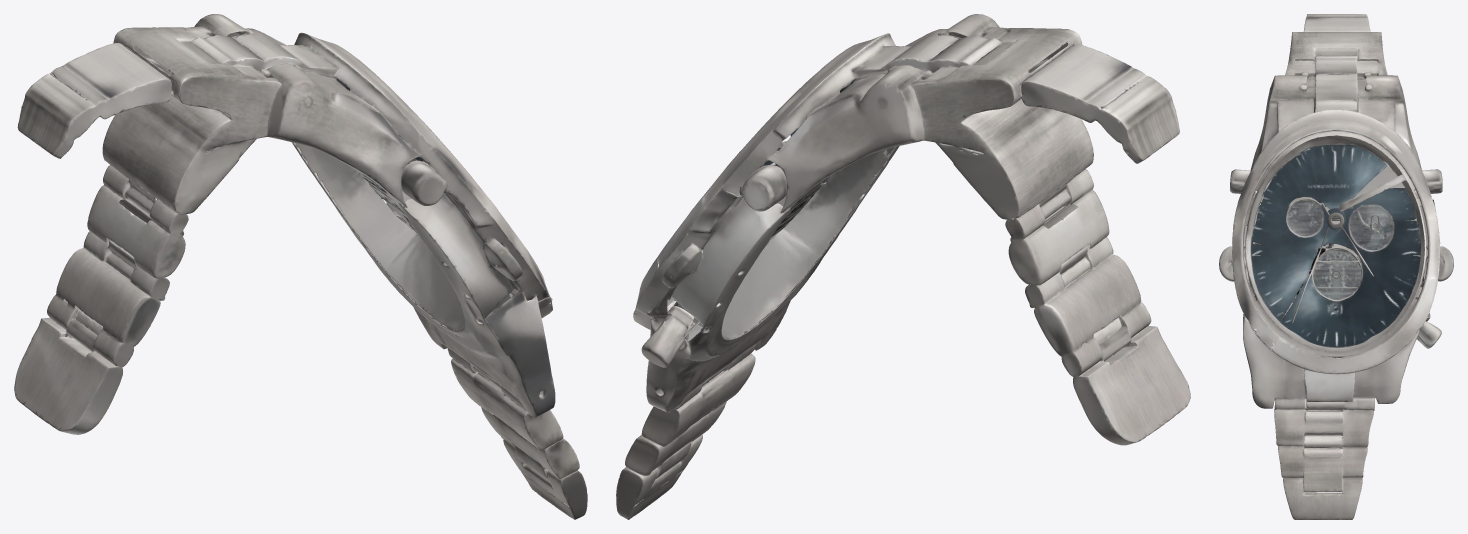
File: dwwatch.glb
3 views of the same model, side by side, from view 1: azimuth 30°, elevation 25°; view 2: azimuth 150°, elevation 25°; view 3: azimuth 270°, elevation 25° (orthographic). The views are drawn at different scales.
Parts seen in each view (by area): view 1: geometry_0; view 2: geometry_0; view 3: geometry_0.
Part boxes in pixels (x1,y1,x2,y2): geometry_0: (14,14,587,519); geometry_0: (616,14,1190,519); geometry_0: (1219,14,1453,519).
Size of the model in its own units: 0.9421 by 0.9379 by 0.5531.
1 material, 1 textured.
